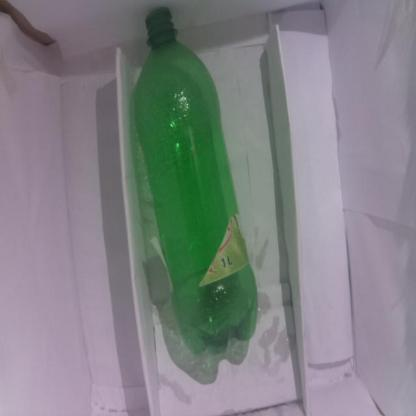Plastic Bottle: (135, 8, 257, 354)
